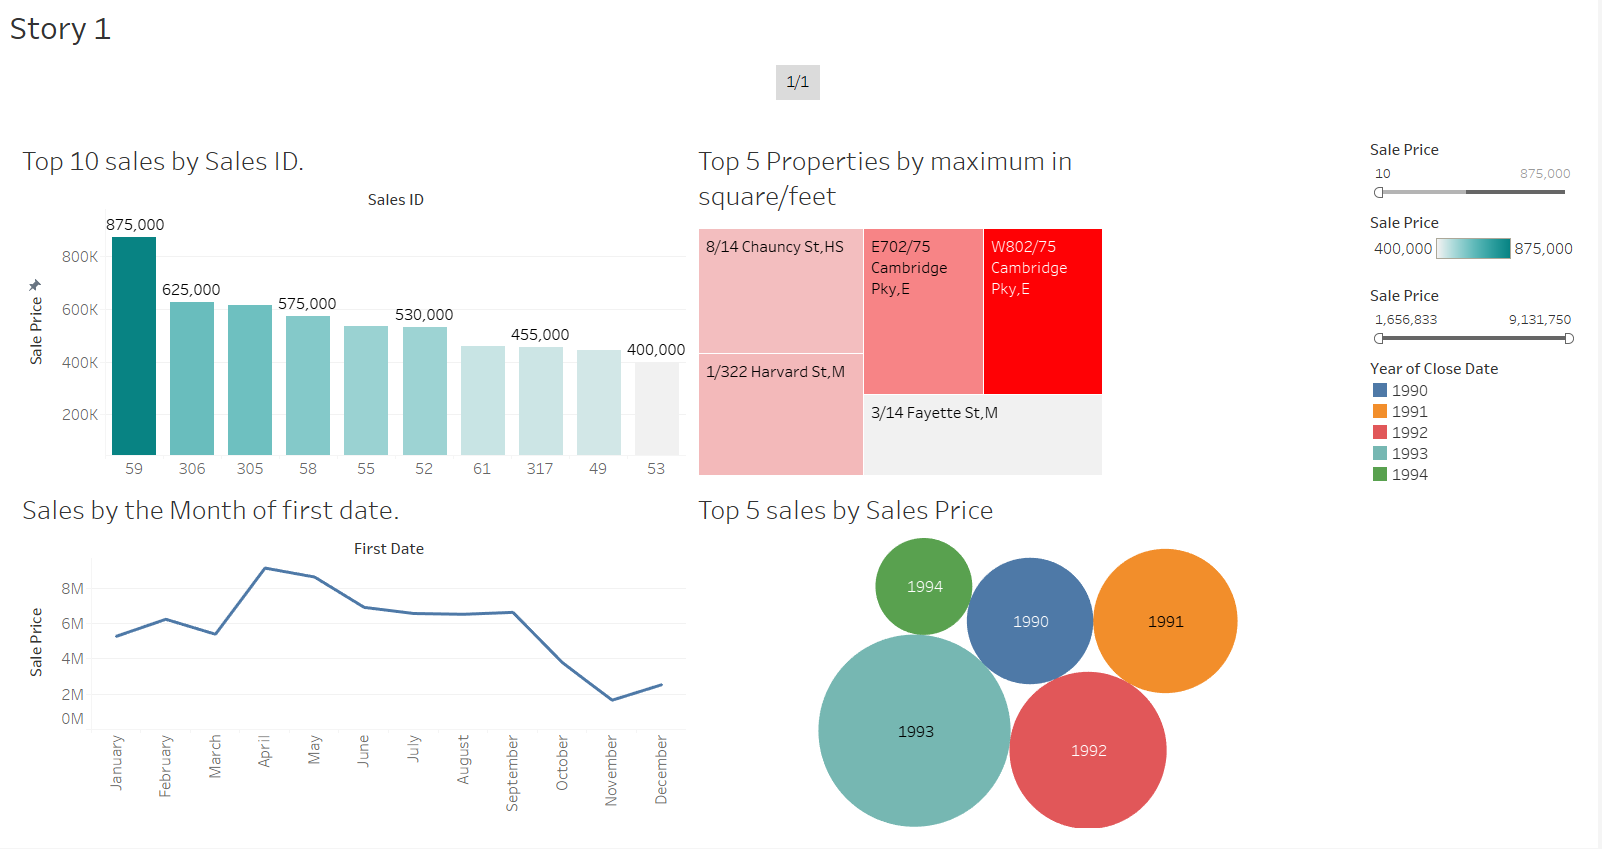

What the dashboard file says about the page in this screenshot:
{"tool":"tableau","page":{"name":"Dashboard 1","canvas":[1000,1000],"units":"permille","ordinal":0},"visuals":[{"type":"worksheet","title":"Top 10 Sale Price","mark":"Automatic","rows":["Sale Price"],"cols":["Sales_ID"],"box":[4.9,9.4,428.8,490.6]},{"type":"worksheet","title":"Top 5 Properties","mark":"Automatic","box":[433.7,9.4,428.8,490.6]},{"type":"filter","title":"Top 10 Sale Price","param":"[federated.1k0x2sf1abp65l11o5wes16vvt3f].[sum:Sale Price:qk]","box":[862.5,9.4,132.6,85.8]},{"type":"legend","title":"Top 10 Sale Price","param":"[federated.1k0x2sf1abp65l11o5wes16vvt3f].[sum:Sale Price:qk]","box":[862.5,95.2,132.6,85.8]},{"type":"filter","title":"Sales by month","param":"[federated.1k0x2sf1abp65l11o5wes16vvt3f].[sum:Sale Price:qk]","box":[862.5,181,132.6,85.8]},{"type":"legend","title":"By price","param":"[federated.1k0x2sf1abp65l11o5wes16vvt3f].[yr:Close Date:ok]","box":[862.5,266.7,132.6,158.6]},{"type":"worksheet","title":"Sales by month","mark":"Line","rows":["Sale Price"],"cols":["First Date"],"box":[4.9,500,428.8,490.6]},{"type":"worksheet","title":"By price","mark":"Circle","box":[433.7,500,428.8,490.6]}]}

Visuals, with their boxes on the dashboard's canvas, which has no fixed pixel size, in thousandths of its width and height (x1, y1, x2, y2). These are canvas units, not pixel positions in the 1602x849 screenshot, which may show the page scaled, cropped or inside an application window:
"Top 10 Sale Price" worksheet: crop(5, 9, 434, 500)
"Top 5 Properties" worksheet: crop(434, 9, 862, 500)
"Top 10 Sale Price" filter: crop(862, 9, 995, 95)
"Top 10 Sale Price" legend: crop(862, 95, 995, 181)
"Sales by month" filter: crop(862, 181, 995, 267)
"By price" legend: crop(862, 267, 995, 425)
"Sales by month" worksheet (Line marks): crop(5, 500, 434, 991)
"By price" worksheet (Circle marks): crop(434, 500, 862, 991)
